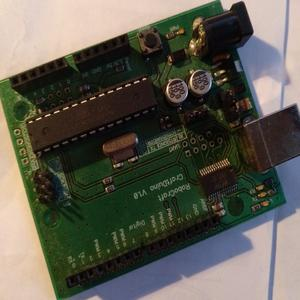duino: (5, 0, 293, 286)
